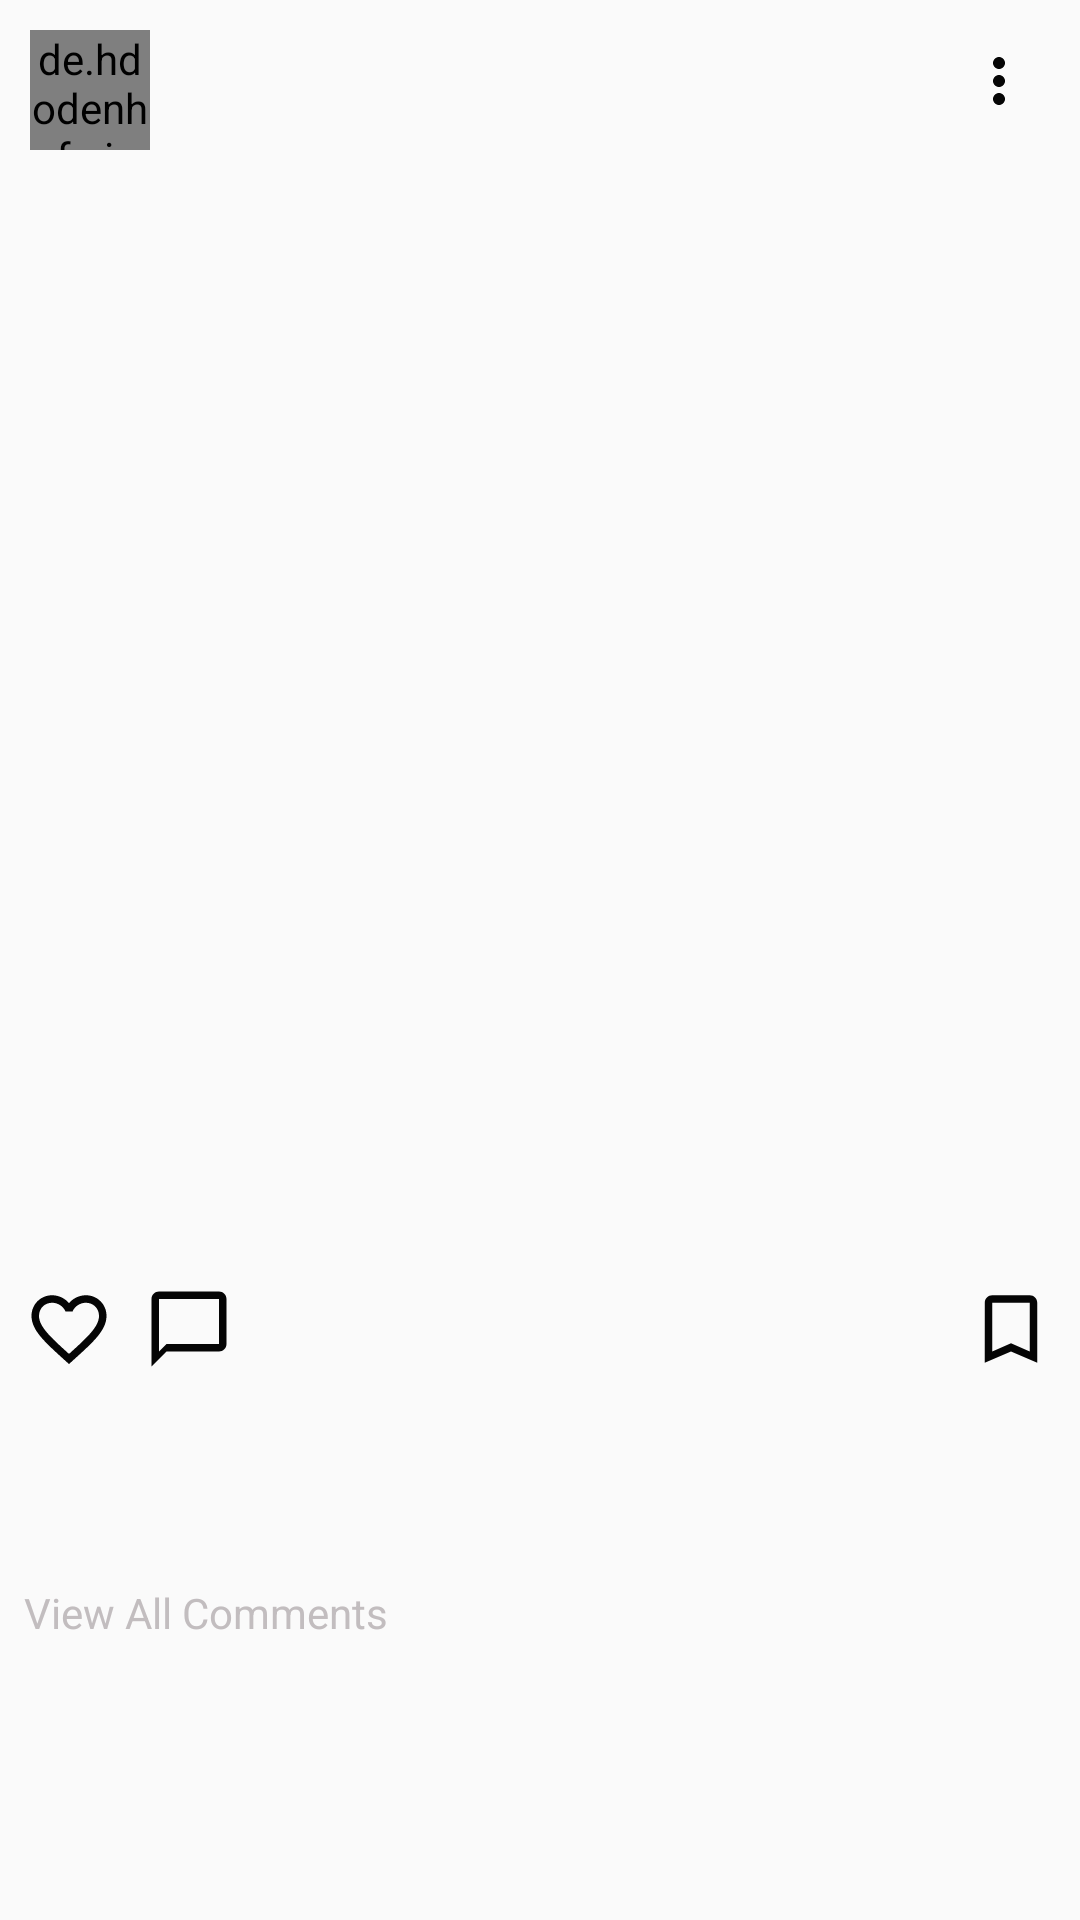

Where to tap for icons on this 1080px x 1920px app screen, as (x=x, y=y):
comment: (x=189, y=1329)
like: (x=69, y=1329)
more: (x=999, y=81)
savee: (x=1011, y=1329)
